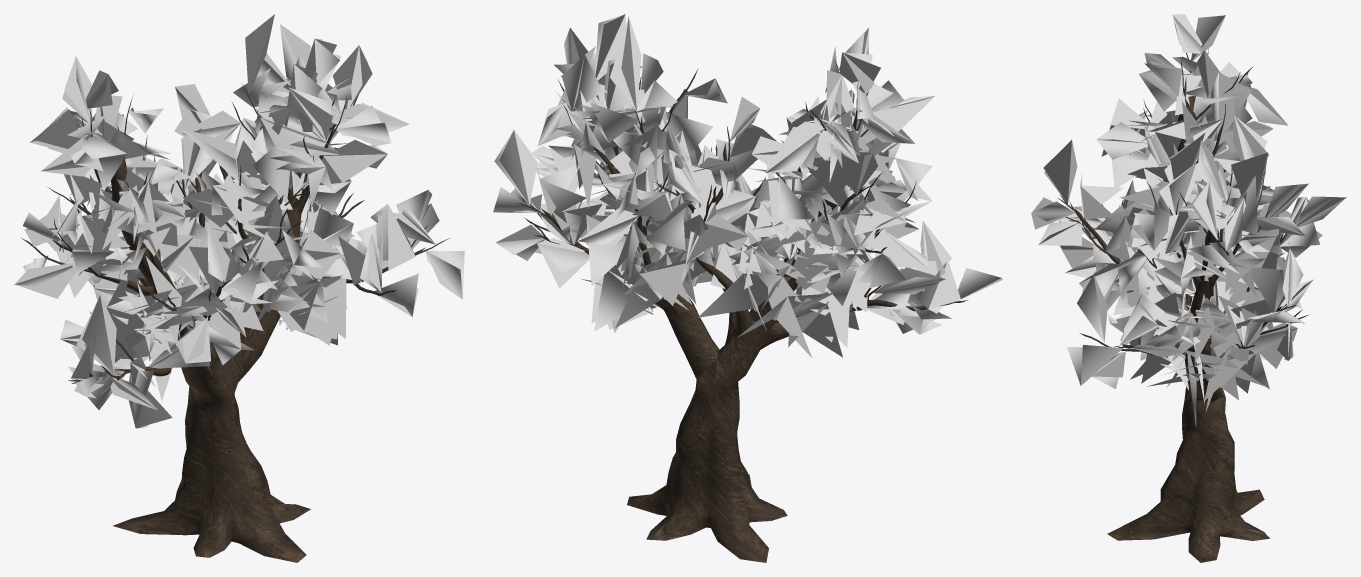
Rendered from NaturalTree2.glb.
3 views of the same model, side by side, from view 1: azimuth 30°, elevation 25°; view 2: azimuth 150°, elevation 25°; view 3: azimuth 270°, elevation 25° (orthographic). The views are drawn at different scales.
Parts seen in each view (by area): view 1: bark_willow_diff_1k_0; view 2: bark_willow_diff_1k_0; view 3: bark_willow_diff_1k_0.
Part boxes in pixels (bbox=[...]): bark_willow_diff_1k_0: bbox=[14, 14, 464, 562]; bark_willow_diff_1k_0: bbox=[493, 14, 1002, 562]; bark_willow_diff_1k_0: bbox=[1031, 14, 1346, 562].
Size of the model in its own units: 4.53 by 5.27 by 3.33.
3 materials, 1 textured.
